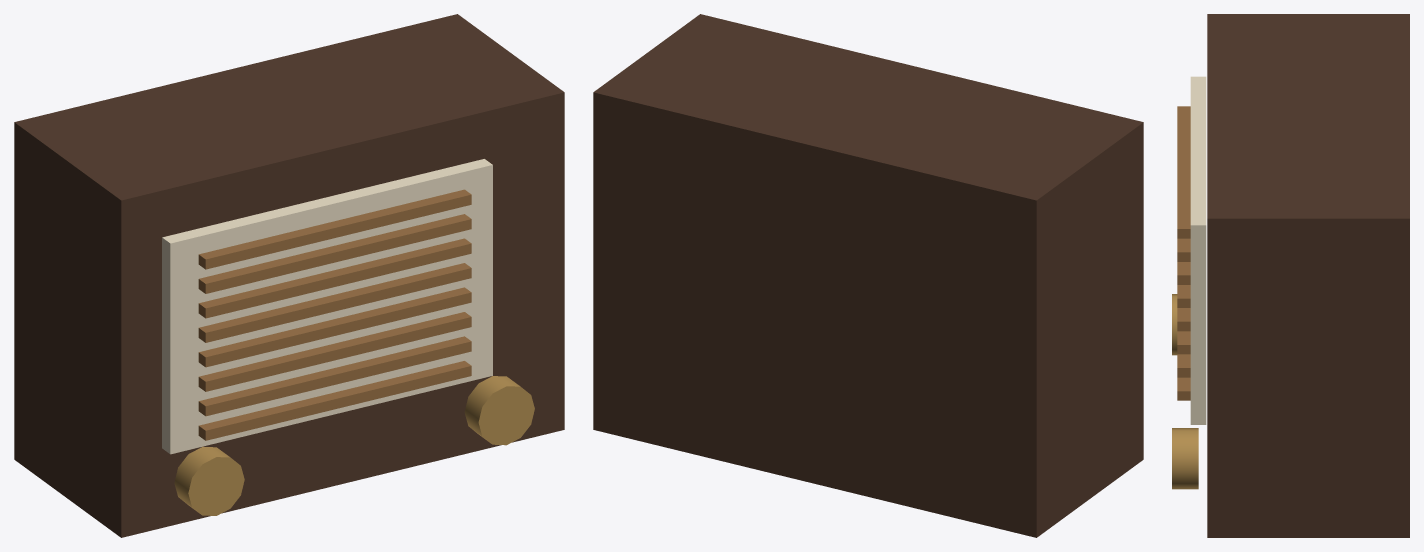
File: radio.glb
3 views of the same model, side by side, from view 1: azimuth 30°, elevation 25°; view 2: azimuth 150°, elevation 25°; view 3: azimuth 270°, elevation 25° (orthographic). The views are drawn at different scales.
Visible parts, largest first — view 1: Cabinet, Grille (×8), Speaker, Dial (×2); view 2: Cabinet; view 3: Cabinet, Speaker, Grille (×8), Dial (×2).
Boxes of the visible parts, x1,y1,x2,y2 form: Cabinet: (14,14,564,537); Grille (×8): (198,189,471,440); Speaker: (162,159,492,454); Dial (×2): (174,376,534,515); Cabinet: (593,14,1143,537); Cabinet: (1207,14,1409,537); Speaker: (1190,76,1206,424); Grille (×8): (1177,106,1190,400); Dial (×2): (1172,294,1198,489).
Size of the model in its own units: 0.55 by 0.4 by 0.27.
